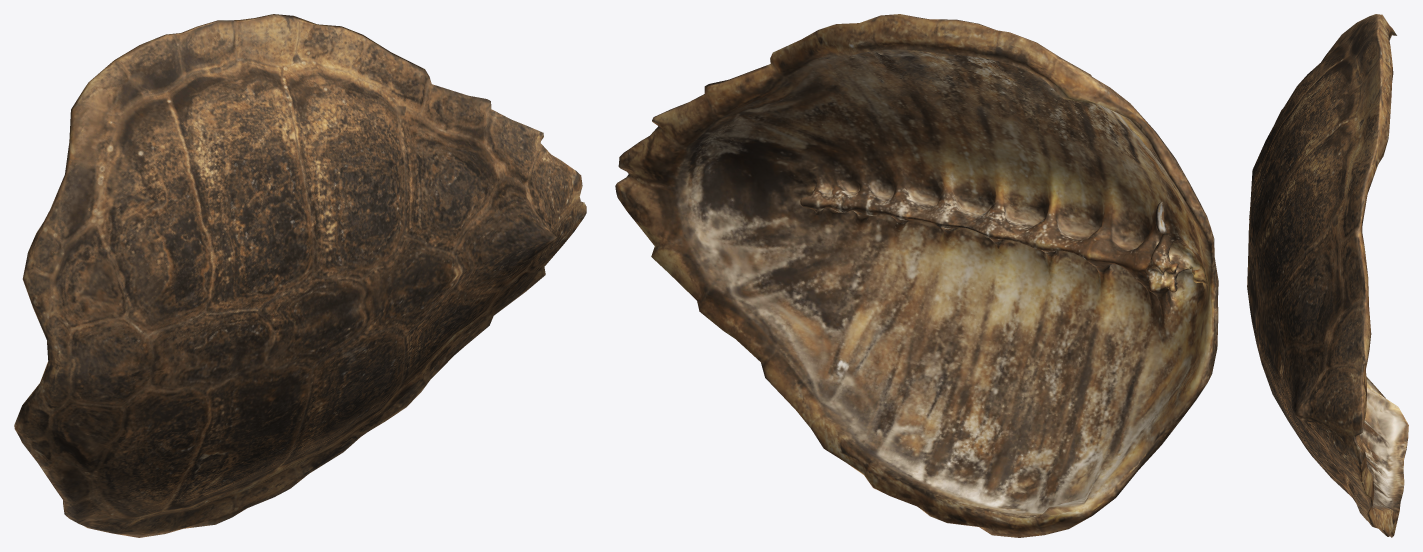
File: cascotartaruga_01.obj
3 renders of one model, left to right at view 1: azimuth 30°, elevation 25°; view 2: azimuth 150°, elevation 25°; view 3: azimuth 270°, elevation 25°, orthographic. The views are drawn at different scales.
Parts seen in each view (by area): view 1: polySurface1; view 2: polySurface1; view 3: polySurface1.
Boxes of the visible parts, box(x1,y1,x2,y2) form: polySurface1: box(14, 14, 586, 537); polySurface1: box(615, 14, 1218, 537); polySurface1: box(1247, 14, 1408, 537).
Bounding box in the file's own units: 793 × 656 × 204.
